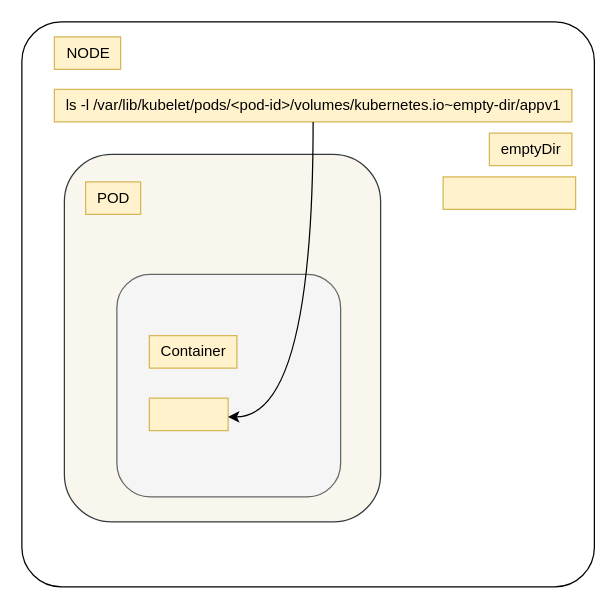
This 616x609 diagram has some shape labels left out. Here are the shapes that lost their labels. From the top down, the box of each, then its label:
(442, 176, 576, 209): mountPath: /app
(148, 397, 228, 431): ls -l /app
